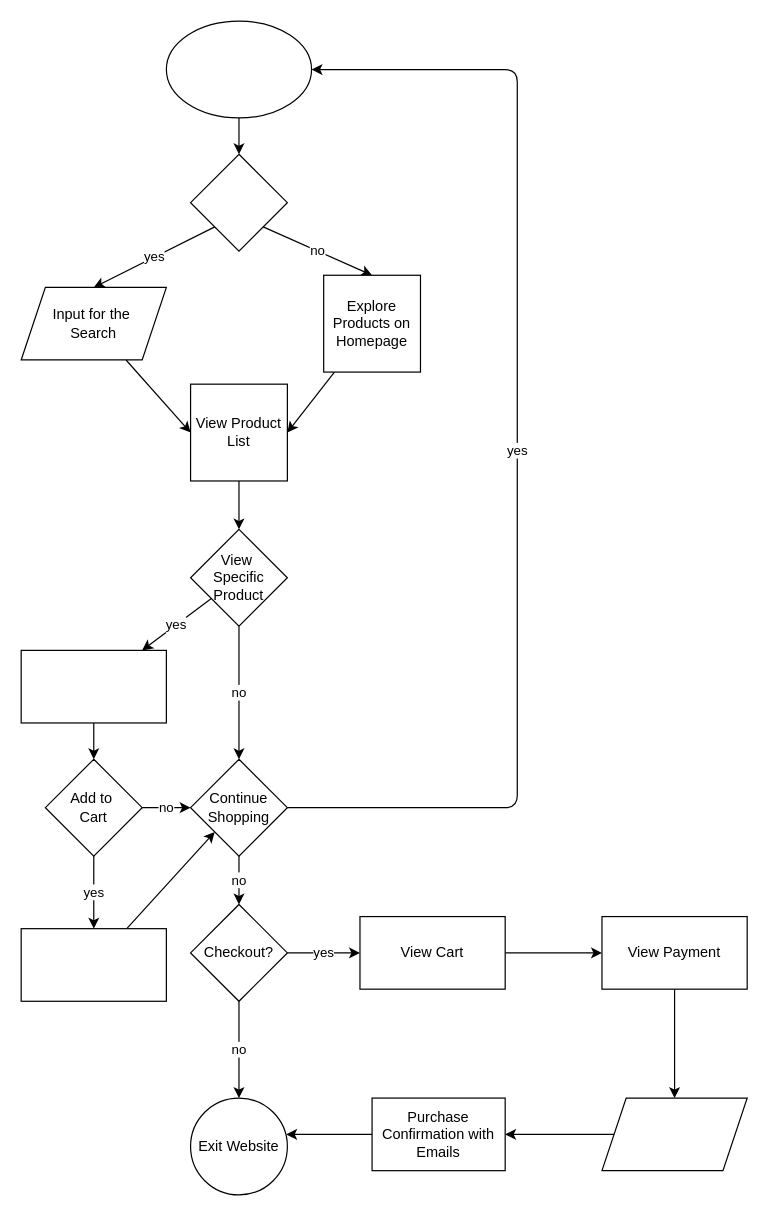
Image size: 768x1216. Some labels were removed from this diagram. The shapes that lost their labels are listed below. From the top down, each one's centre as x and y in pixels, then its label:
At (238,69): "Start Entering Website".
At (238,202): "Search for Product".
At (93,686): "Open Product Page".
At (93,964): "Cart Confirmation".
At (674,1134): "Input Payment Information".
